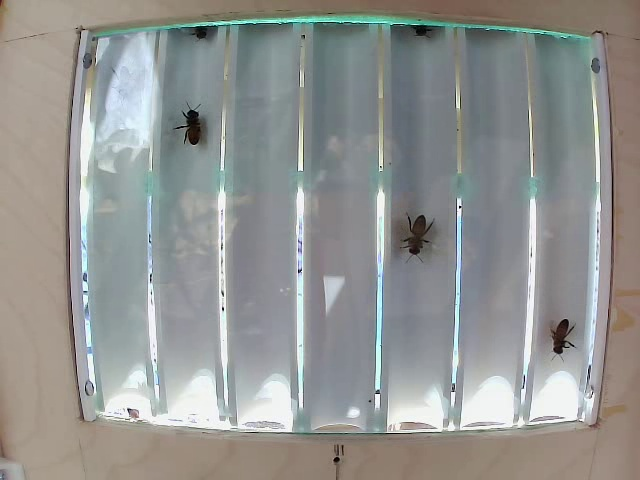bee: (392, 208, 445, 268), (169, 104, 219, 163), (548, 305, 578, 369)
